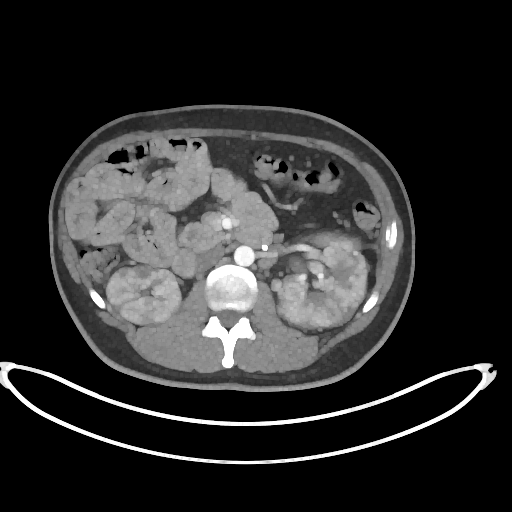Lesion: (281, 282, 306, 303), (271, 278, 282, 291)
